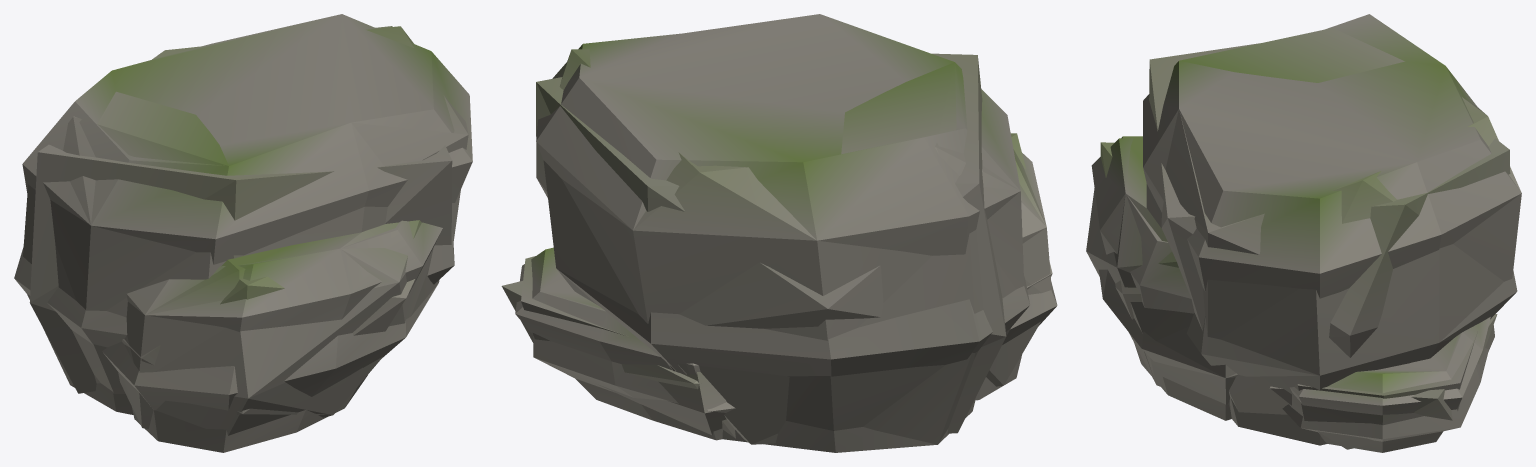
The model's file is BoulderC.glb.
3 renders of one model, left to right at view 1: azimuth 30°, elevation 25°; view 2: azimuth 150°, elevation 25°; view 3: azimuth 270°, elevation 25°, orthographic. The views are drawn at different scales.
Parts seen in each view (by area): view 1: BoulderC_L0, BoulderC_L1, BoulderC_L2; view 2: BoulderC_L0, BoulderC_L1, BoulderC_L2; view 3: BoulderC_L0, BoulderC_L1, BoulderC_L2.
Part boxes in pixels (box(x1,y1,x2,y2)): BoulderC_L0: box(14, 14, 472, 452); BoulderC_L1: box(23, 26, 468, 435); BoulderC_L2: box(29, 26, 452, 415); BoulderC_L0: box(515, 14, 1057, 452); BoulderC_L1: box(521, 49, 1051, 444); BoulderC_L2: box(501, 53, 1052, 444); BoulderC_L0: box(1091, 14, 1521, 452); BoulderC_L1: box(1086, 28, 1521, 449); BoulderC_L2: box(1100, 43, 1510, 420).
Bounding box in the file's own units: 1.21 × 0.75 × 1.01.
